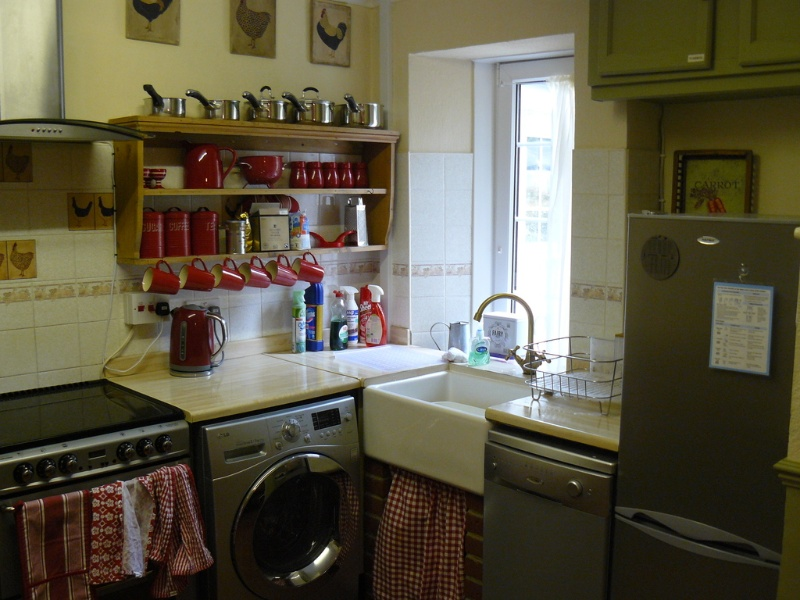oven: (3, 424, 197, 600)
refrigerator: (625, 210, 789, 600)
